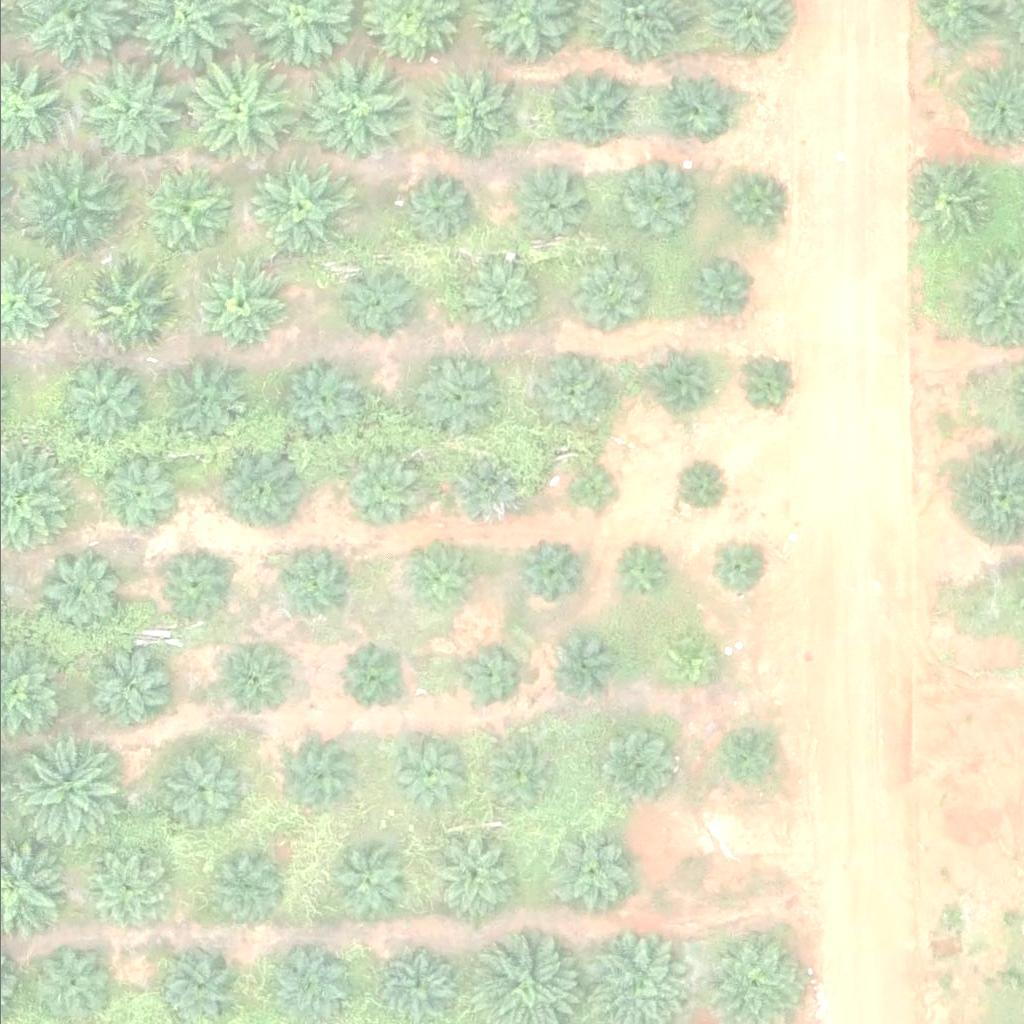Kelapa_Sawit: (174, 48, 300, 173), (11, 731, 124, 844), (13, 149, 127, 261), (300, 60, 400, 160), (249, 154, 349, 254), (73, 257, 173, 357), (81, 62, 181, 162), (153, 750, 242, 838), (414, 354, 502, 442), (214, 449, 302, 537), (906, 160, 994, 248), (422, 69, 510, 157), (274, 358, 362, 446), (82, 846, 170, 934), (37, 546, 125, 634), (137, 167, 225, 255), (83, 641, 172, 728), (543, 64, 631, 151), (193, 263, 281, 350), (155, 358, 243, 445), (57, 360, 145, 447), (464, 258, 540, 333), (516, 168, 592, 243), (397, 173, 473, 248), (341, 262, 417, 337), (483, 741, 559, 816), (593, 725, 669, 800), (432, 839, 508, 914), (655, 68, 731, 143), (552, 834, 628, 909), (614, 166, 689, 241), (572, 259, 647, 334), (528, 357, 603, 432), (152, 551, 227, 626), (268, 539, 343, 614), (277, 740, 352, 815), (205, 845, 280, 920), (333, 847, 408, 922), (393, 741, 468, 816), (342, 449, 417, 524), (443, 456, 518, 531), (538, 628, 613, 703), (448, 642, 523, 717), (334, 640, 409, 715), (210, 643, 285, 718), (31, 947, 106, 1022), (94, 457, 169, 532), (736, 351, 799, 414), (647, 352, 710, 415), (407, 549, 470, 612), (652, 626, 715, 689), (714, 718, 777, 781), (720, 171, 783, 233), (687, 261, 750, 323), (705, 536, 768, 598), (605, 540, 668, 602), (518, 540, 581, 602), (673, 466, 724, 516), (567, 465, 618, 515)
